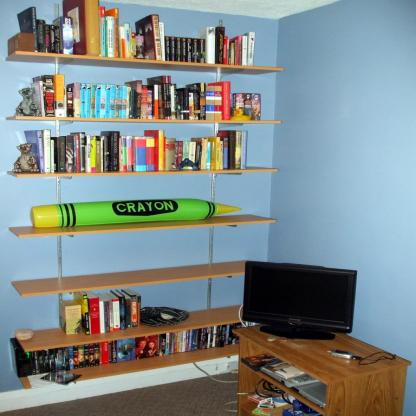book: (16, 0, 255, 66), (5, 318, 249, 374), (24, 73, 262, 120), (23, 125, 247, 170), (61, 290, 140, 338)
